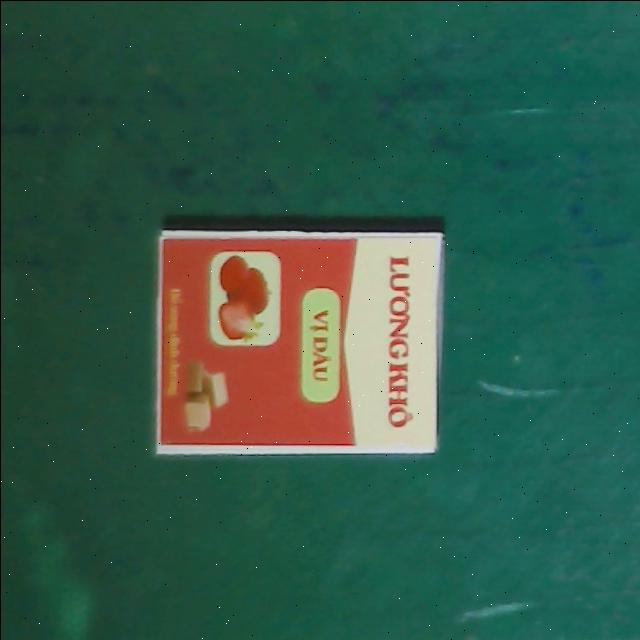dau: (157, 230, 442, 452)
